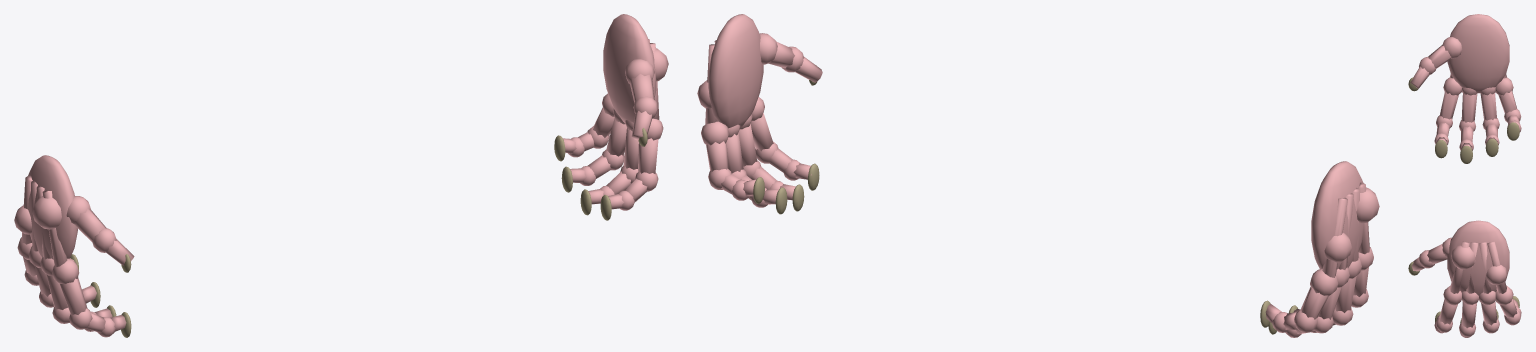
File: zombie-parts.glb
3 renders of one model, left to right at view 1: azimuth 30°, elevation 25°; view 2: azimuth 150°, elevation 25°; view 3: azimuth 270°, elevation 25°, orthographic. The views are drawn at different scales.
Parts seen in each view (by area): view 1: foreArm.l|hand, foreArm.r|hand; view 2: foreArm.l|hand, foreArm.r|hand; view 3: foreArm.r|hand, foreArm.l|hand.
Boxes of the visible parts, x1,y1,x2,y2 form: foreArm.l|hand: (554,14,668,220); foreArm.r|hand: (14,155,134,337); foreArm.l|hand: (697,14,822,214); foreArm.r|hand: (1260,161,1379,337); foreArm.r|hand: (1408,14,1521,163); foreArm.l|hand: (1408,220,1521,337).
Size of the model in its own units: 0.6563 by 0.1791 by 0.1396.
